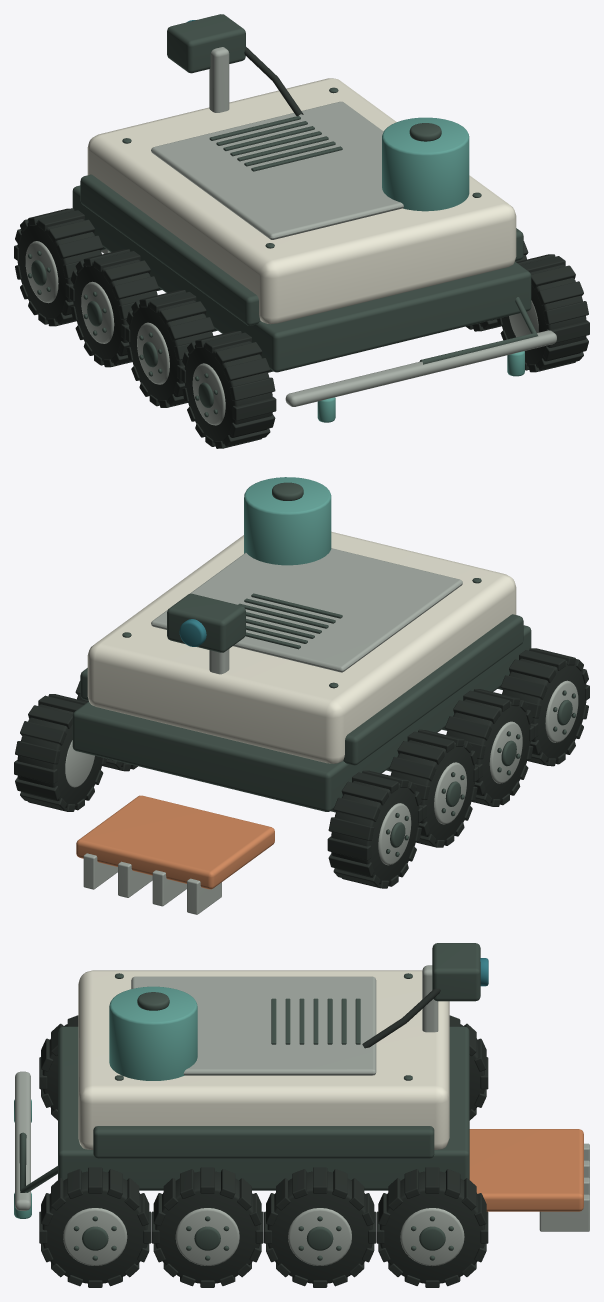
File: field-atlas-robot.glb
3 views of the same model, one above another, from view 1: azimuth 30°, elevation 25°; view 2: azimuth 150°, elevation 25°; view 3: azimuth 270°, elevation 25° (orthographic).
Parts seen in each view (by area): view 1: Flat rectangular enclosure, Service panel, Structural deck, Solution tank, Side protection rail, Spray manifold, USB camera enclosure, All terrain tire.003, All terrain tire.001, All terrain tire, All terrain tire.002, All terrain tire.007 (+20 smaller); view 2: Flat rectangular enclosure, Service panel, Structural deck, Weeder housing, Side protection rail, Solution tank, USB camera enclosure, All terrain tire, All terrain tire.002, All terrain tire.003, All terrain tire.001, All terrain tire.004 (+24 smaller); view 3: Flat rectangular enclosure, Service panel, Structural deck, Side protection rail.001, Weeder housing, Solution tank, All terrain tire.004, All terrain tire.005, All terrain tire.007, All terrain tire.006, USB camera enclosure, Wheel hub.007 (+15 smaller).
Part boxes in pixels (x1,y1,x2,y2): Flat rectangular enclosure: (87, 78, 516, 324); Service panel: (151, 101, 403, 239); Structural deck: (72, 185, 531, 372); Solution tank: (382, 117, 469, 211); Side protection rail: (80, 174, 260, 325); Spray manifold: (285, 330, 556, 406); USB camera enclosure: (167, 14, 245, 73); All terrain tire.003: (184, 341, 272, 444); All terrain tire.001: (73, 259, 157, 362); All terrain tire: (17, 219, 101, 322); All terrain tire.002: (129, 300, 213, 403); All terrain tire.007: (501, 264, 586, 367); Flat rectangular enclosure: (87, 531, 516, 763); Service panel: (151, 548, 462, 672); Structural deck: (72, 625, 531, 811); Weeder housing: (76, 795, 274, 889); Side protection rail: (343, 614, 523, 765); Solution tank: (244, 477, 331, 565); USB camera enclosure: (167, 593, 245, 652); All terrain tire: (331, 781, 419, 884); All terrain tire.002: (446, 699, 530, 802); All terrain tire.003: (502, 658, 586, 761); All terrain tire.001: (390, 740, 474, 843); All terrain tire.004: (17, 704, 102, 807); Flat rectangular enclosure: (78, 970, 449, 1149); Service panel: (131, 976, 376, 1075); Structural deck: (58, 1026, 469, 1190); Side protection rail.001: (93, 1126, 434, 1158); Weeder housing: (469, 1129, 583, 1211); Solution tank: (109, 986, 197, 1080); All terrain tire.004: (380, 1171, 484, 1283); All terrain tire.005: (267, 1171, 372, 1283); All terrain tire.007: (42, 1171, 147, 1283); All terrain tire.006: (155, 1171, 259, 1283); USB camera enclosure: (432, 943, 480, 1001); Wheel hub.007: (63, 1208, 127, 1265).
Bounding box in the file's own units: 2.1 × 1.37 × 2.87.
